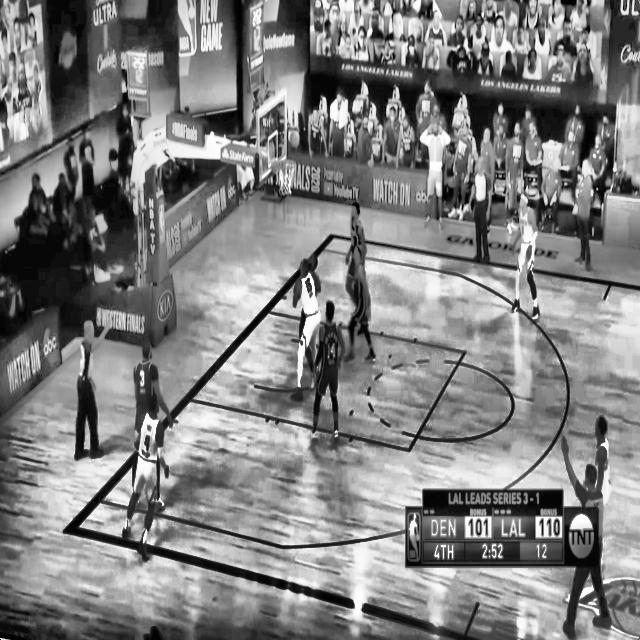Basketball: (291, 132, 300, 148)
